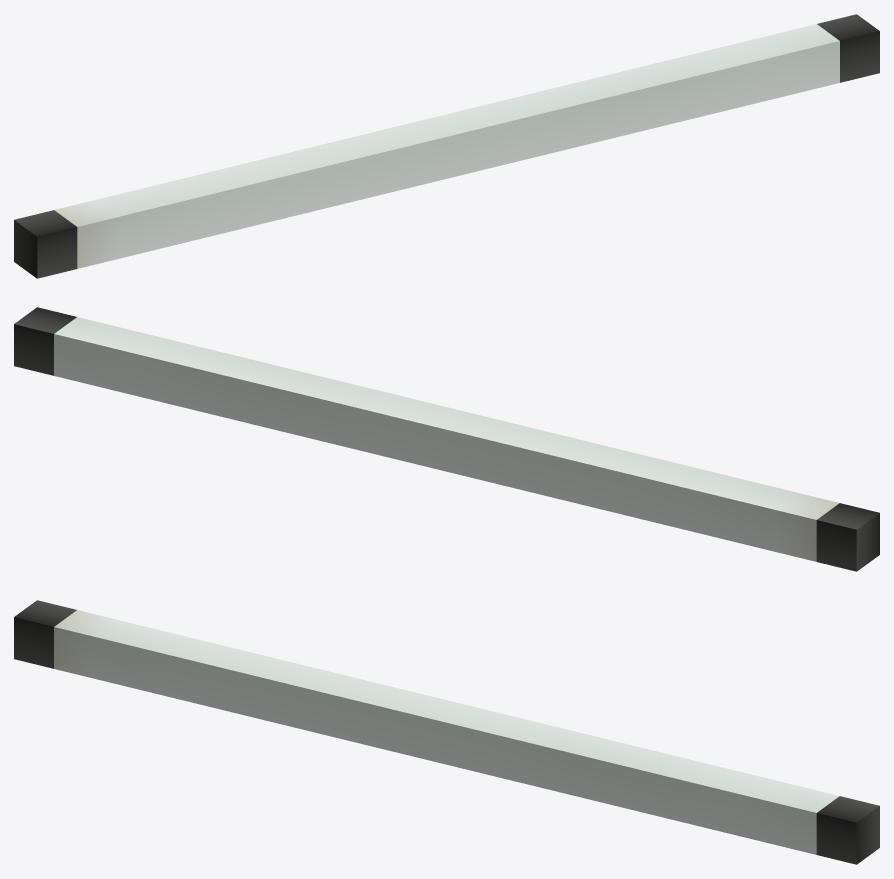
The model's file is LampFlourescent_01.fbx.
3 renders of one model, top to bottom at view 1: azimuth 30°, elevation 25°; view 2: azimuth 150°, elevation 25°; view 3: azimuth 330°, elevation 25°, orthographic.
Parts seen in each view (by area): view 1: LampFlourescent_01; view 2: LampFlourescent_01; view 3: LampFlourescent_01.
Boxes of the visible parts, left/top/right/bottom form: LampFlourescent_01: left=14, top=14, right=879, bottom=278; LampFlourescent_01: left=14, top=307, right=879, bottom=571; LampFlourescent_01: left=14, top=600, right=879, bottom=864.
Bounding box in the file's own units: 105 × 5 × 5.
Materials: 2 (2 with a texture image).
